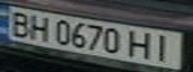0: (103, 25, 127, 55), (48, 17, 72, 46)
6: (66, 20, 87, 50)
7: (84, 22, 106, 52)
B: (3, 8, 33, 38)
H: (124, 28, 157, 61), (24, 12, 54, 42)
I: (148, 32, 181, 63)
